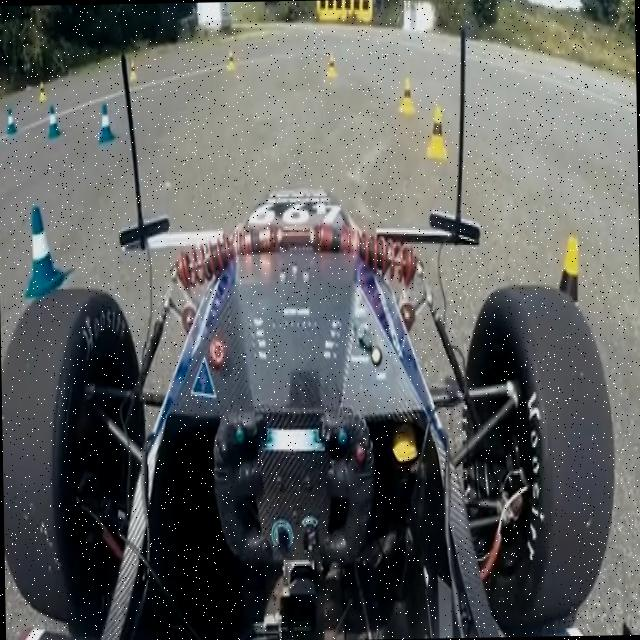blue_cone: (17, 198, 62, 302), (95, 99, 114, 148), (44, 100, 60, 140), (4, 104, 16, 138)
yellow_cone: (540, 238, 596, 408), (423, 102, 448, 162), (398, 76, 414, 114), (326, 51, 336, 78), (128, 59, 138, 85), (224, 46, 234, 72), (38, 81, 46, 104)
